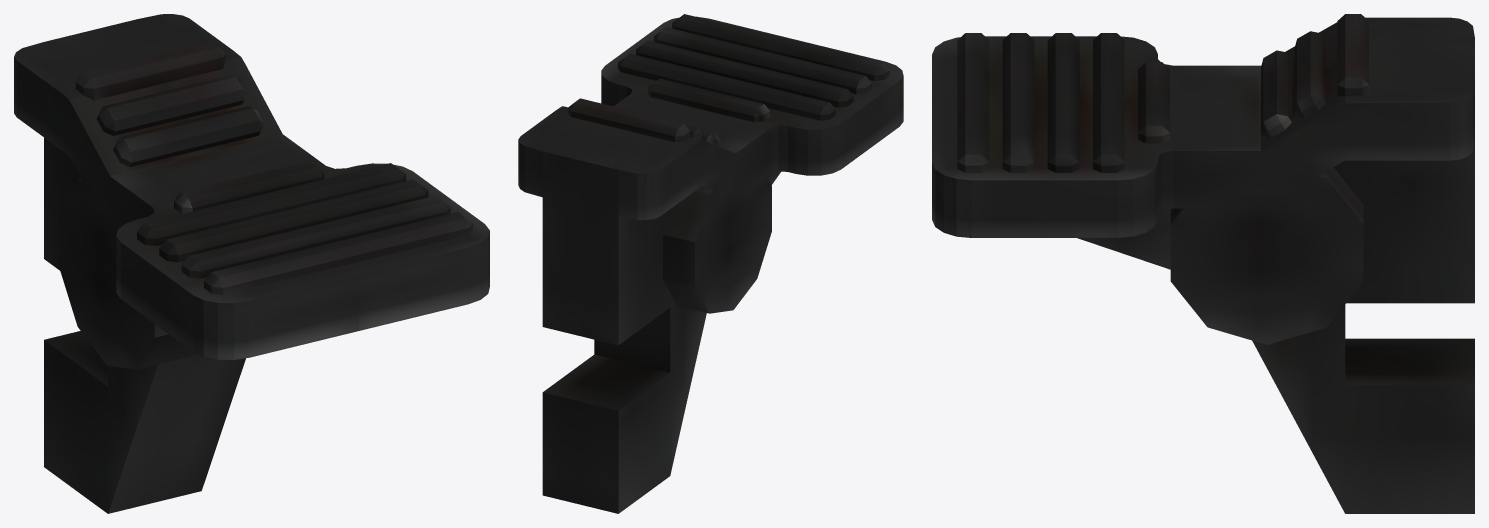
3 renders of one model, left to right at view 1: azimuth 30°, elevation 25°; view 2: azimuth 150°, elevation 25°; view 3: azimuth 270°, elevation 25°, orthographic. The views are drawn at different scales.
Parts seen in each view (by area): view 1: TW_5dcbd56fdbd3d91b3e5468d5_PZ_Import; view 2: TW_5dcbd56fdbd3d91b3e5468d5_PZ_Import; view 3: TW_5dcbd56fdbd3d91b3e5468d5_PZ_Import.
Boxes of the visible parts, bbox=[...] form: TW_5dcbd56fdbd3d91b3e5468d5_PZ_Import: bbox=[14, 14, 489, 513]; TW_5dcbd56fdbd3d91b3e5468d5_PZ_Import: bbox=[518, 14, 903, 513]; TW_5dcbd56fdbd3d91b3e5468d5_PZ_Import: bbox=[932, 14, 1474, 513].
Bounding box in the file's own units: 0.0124 × 0.0197 × 0.0178.
Materials: 1 (1 with a texture image).
